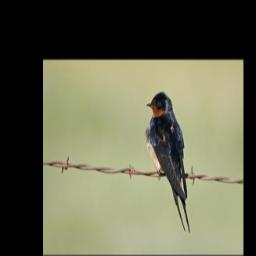Swallow: (146, 89, 193, 233)
